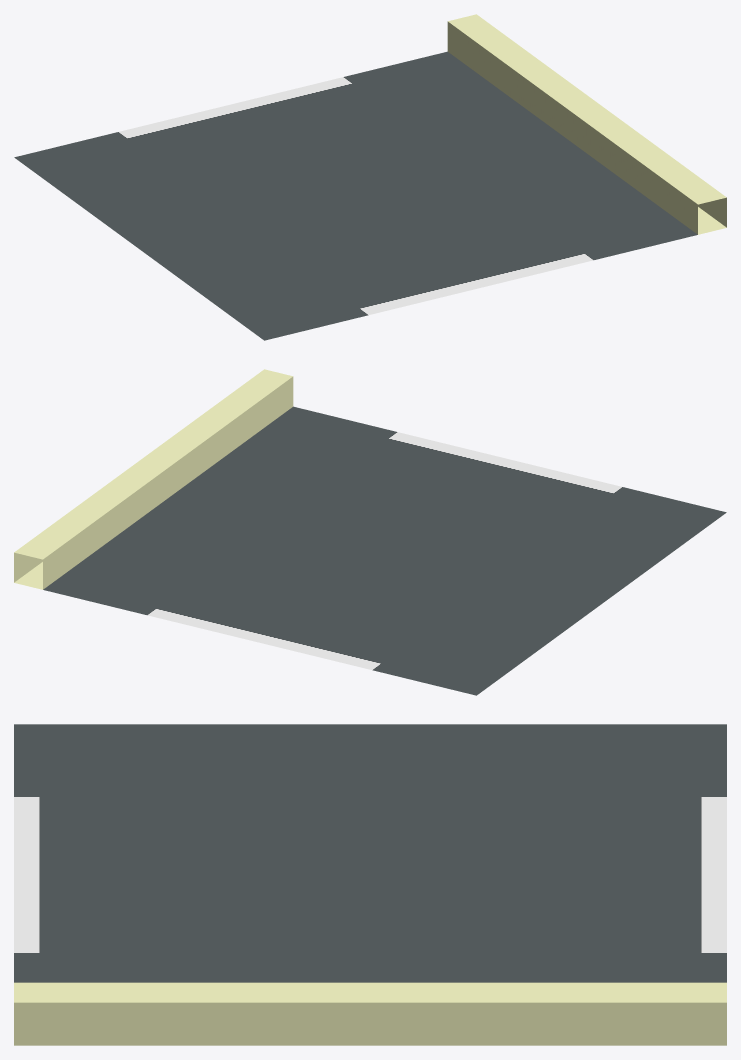
File: road_dottedline2_edge1_right.fbx
3 views of the same model, one above another, from view 1: azimuth 30°, elevation 25°; view 2: azimuth 150°, elevation 25°; view 3: azimuth 270°, elevation 25° (orthographic). The views are drawn at different scales.
Visible parts, largest first — view 1: pPlane1, pPlane2; view 2: pPlane1, pPlane2; view 3: pPlane1, pPlane2.
Boxes of the visible parts, x1=… form: pPlane1: x1=14, y1=51, x2=697, y2=340; pPlane2: x1=447, y1=14, x2=726, y2=234; pPlane1: x1=43, y1=406, x2=726, y2=695; pPlane2: x1=14, y1=369, x2=293, y2=589; pPlane1: x1=14, y1=724, x2=726, y2=982; pPlane2: x1=14, y1=982, x2=726, y2=1045.
Size of the model in its own units: 107 by 6.67 by 100.
